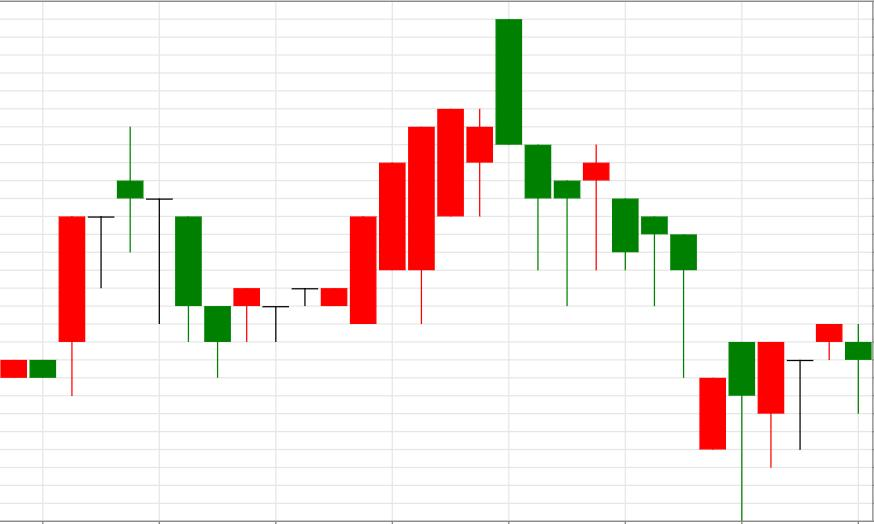hammer_rise: (495, 19, 698, 378)
